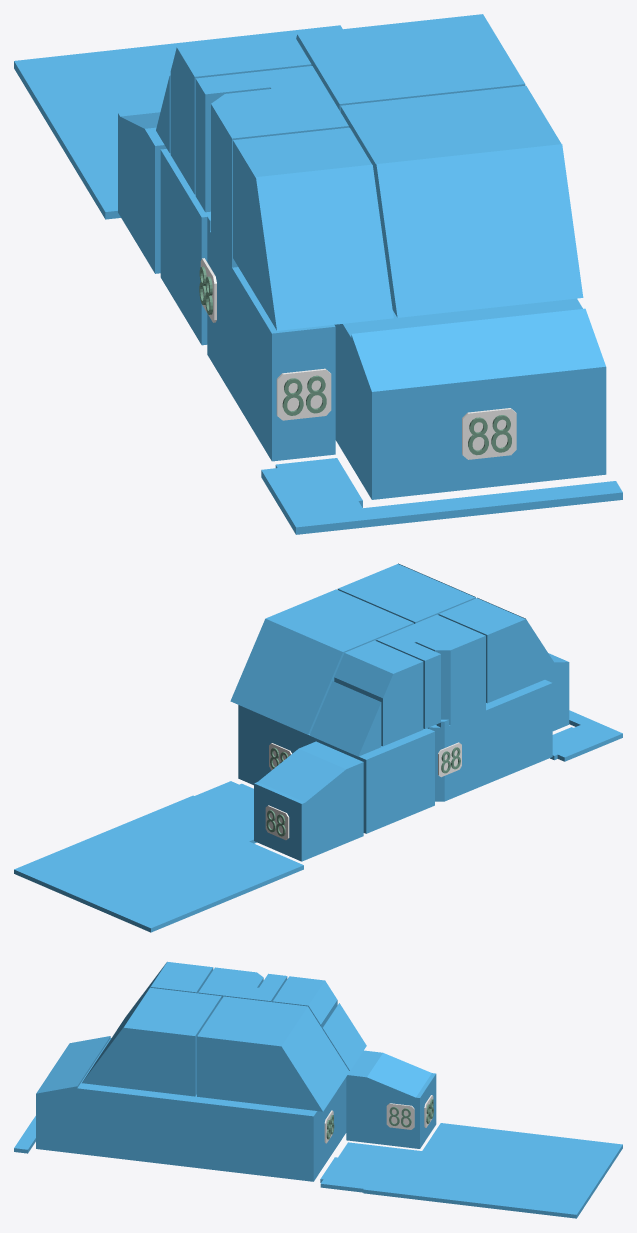
The picture shows the model from 3 angles, top to bottom: view 1: azimuth 30°, elevation 25°; view 2: azimuth 150°, elevation 25°; view 3: azimuth 270°, elevation 25°; orthographic projection. The views are drawn at different scales.
Parts seen in each view (by area): view 1: g_1, g_8, g_9, g_7, g_15, g_4, g_10, g_6, g_0, g_5, g_13, g_11 (+4 smaller); view 2: g_15, g_7, g_5, g_0, g_6, g_9, g_4, g_8, g_11, g_12, g_2, g_10 (+2 smaller); view 3: g_15, g_1, g_7, g_8, g_0, g_5, g_6, g_9, g_12, g_10, g_11, g_33 (+1 smaller).
Part boxes in pixels (left/top/right/bottom): g_1: left=334, top=298, right=606, bottom=499; g_8: left=340, top=85, right=583, bottom=317; g_9: left=233, top=127, right=393, bottom=330; g_7: left=296, top=14, right=525, bottom=111; g_15: left=14, top=25, right=342, bottom=219; g_4: left=233, top=269, right=335, bottom=461; g_10: left=195, top=66, right=348, bottom=212; g_6: left=170, top=34, right=311, bottom=194; g_0: left=160, top=149, right=210, bottom=345; g_5: left=118, top=108, right=166, bottom=273; g_13: left=261, top=458, right=369, bottom=534; g_11: left=211, top=89, right=283, bottom=257; g_15: left=14, top=781, right=303, bottom=932; g_7: left=230, top=589, right=413, bottom=734; g_5: left=254, top=741, right=363, bottom=861; g_0: left=238, top=705, right=434, bottom=833; g_6: left=334, top=640, right=423, bottom=746; g_9: left=438, top=597, right=560, bottom=703; g_4: left=486, top=680, right=552, bottom=783; g_8: left=337, top=563, right=475, bottom=623; g_11: left=415, top=627, right=485, bottom=718; g_12: left=309, top=681, right=381, bottom=756; g_2: left=427, top=704, right=487, bottom=801; g_10: left=376, top=614, right=465, bottom=728; g_15: left=320, top=1123, right=622, bottom=1218; g_1: left=36, top=1036, right=233, bottom=1171; g_7: left=197, top=996, right=349, bottom=1111; g_8: left=82, top=987, right=221, bottom=1096; g_0: left=231, top=1077, right=346, bottom=1181; g_5: left=346, top=1050, right=436, bottom=1148; g_6: left=272, top=976, right=337, bottom=1028; g_9: left=110, top=961, right=213, bottom=1039; g_12: left=322, top=1003, right=366, bottom=1070; g_10: left=198, top=973, right=287, bottom=1002; g_11: left=208, top=967, right=263, bottom=987; g_33: left=386, top=1103, right=414, bottom=1129.
Bounding box in the file's own units: 11.55 × 5.36 × 21.7.
